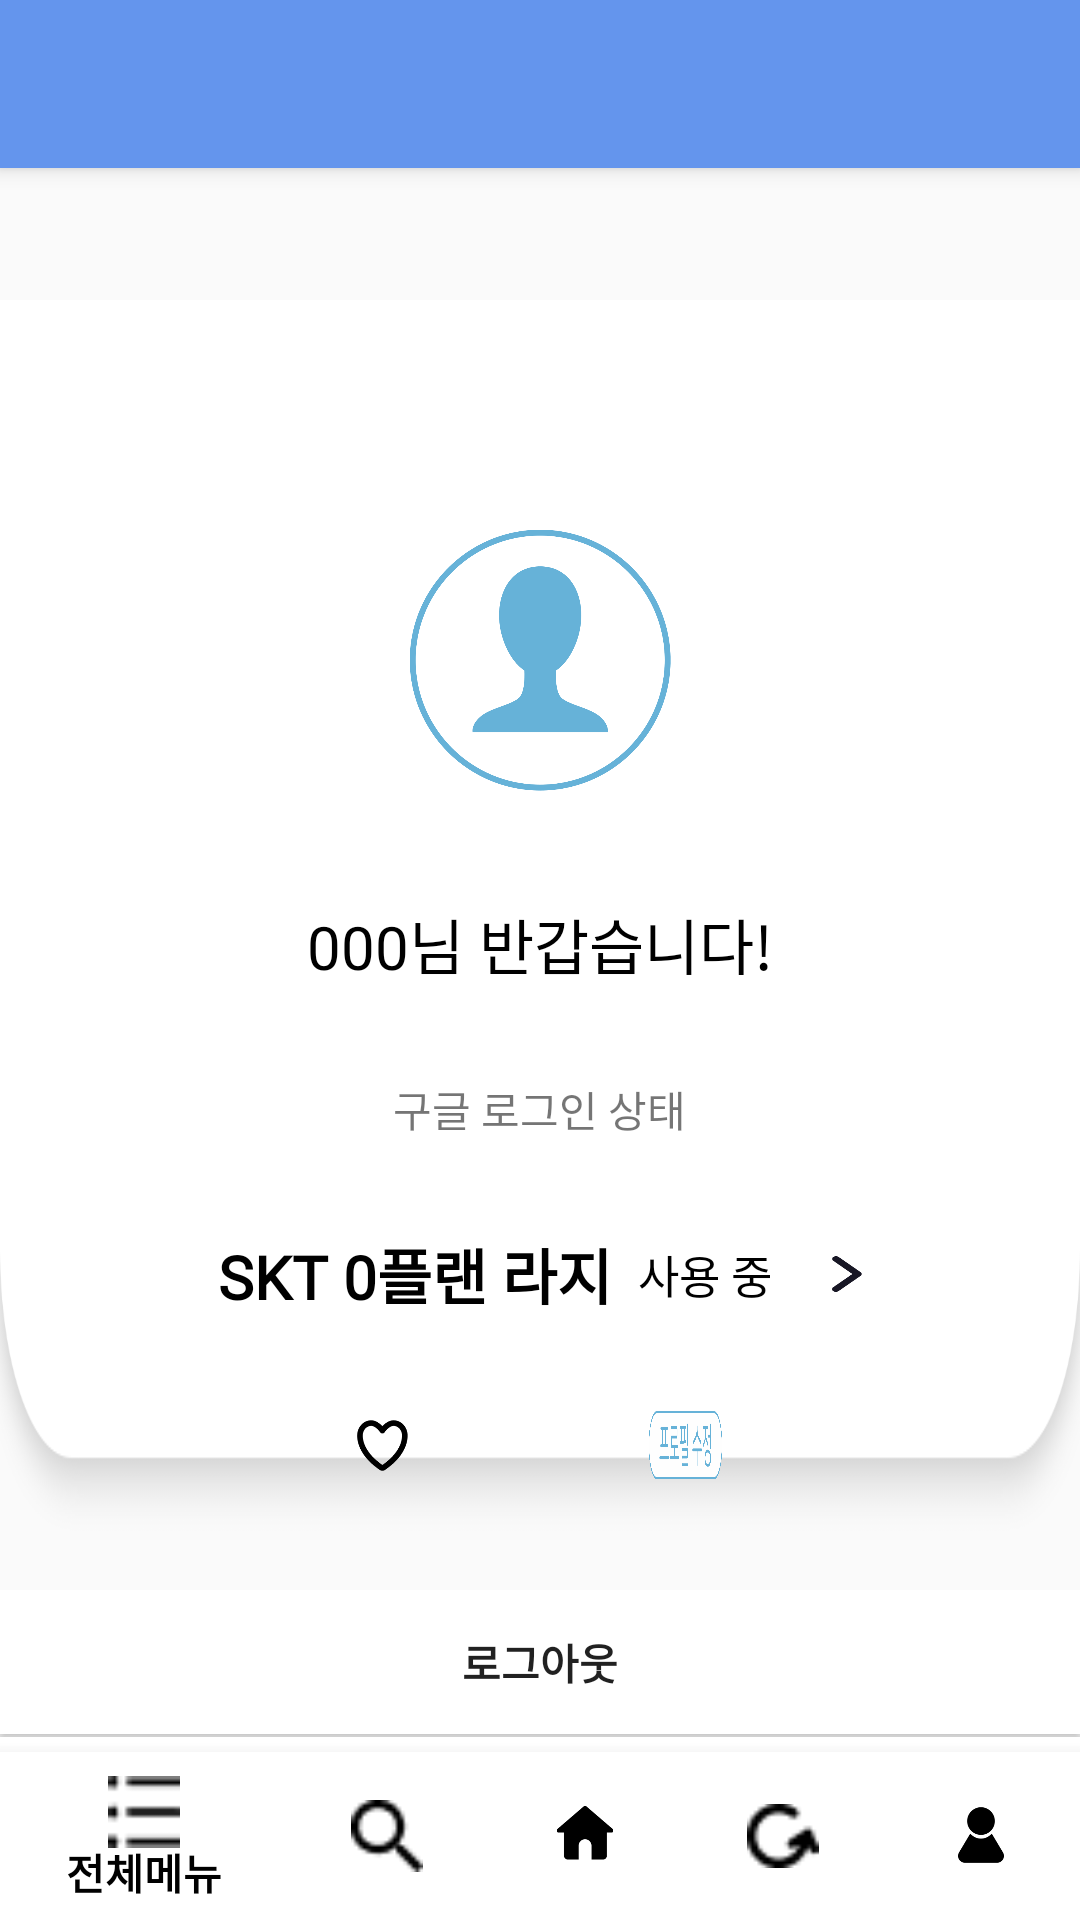

Screen size 1080w x 1920h. Icon name, then its box in pixels as (left=x1, top=y1, right=x2, bottom=y2):
heart: (left=357, top=1420, right=408, bottom=1471)
profile: (left=410, top=530, right=671, bottom=791)
